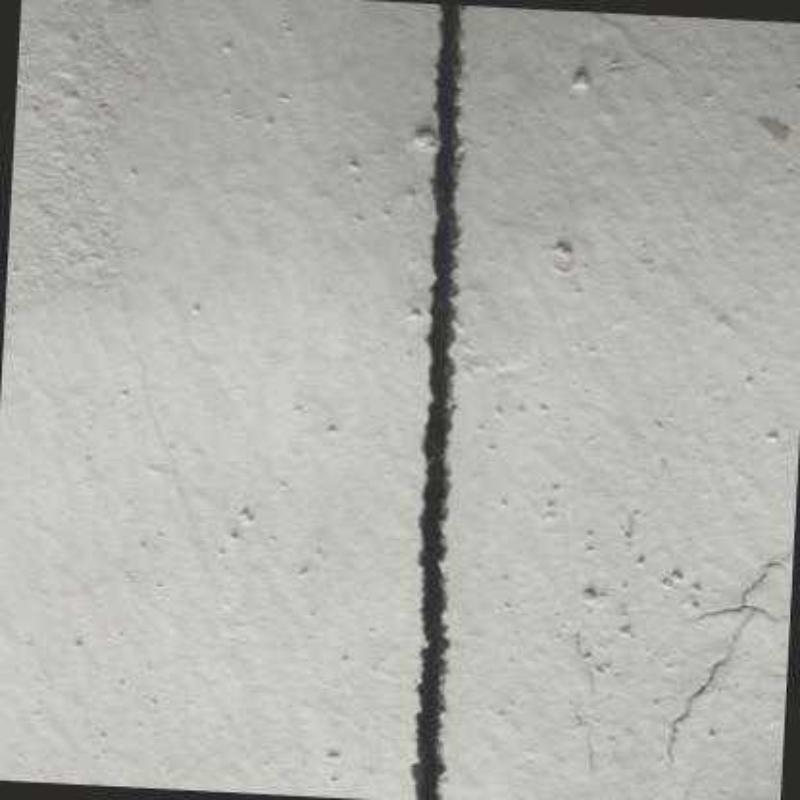crack: (407, 2, 469, 798), (667, 552, 792, 762)
